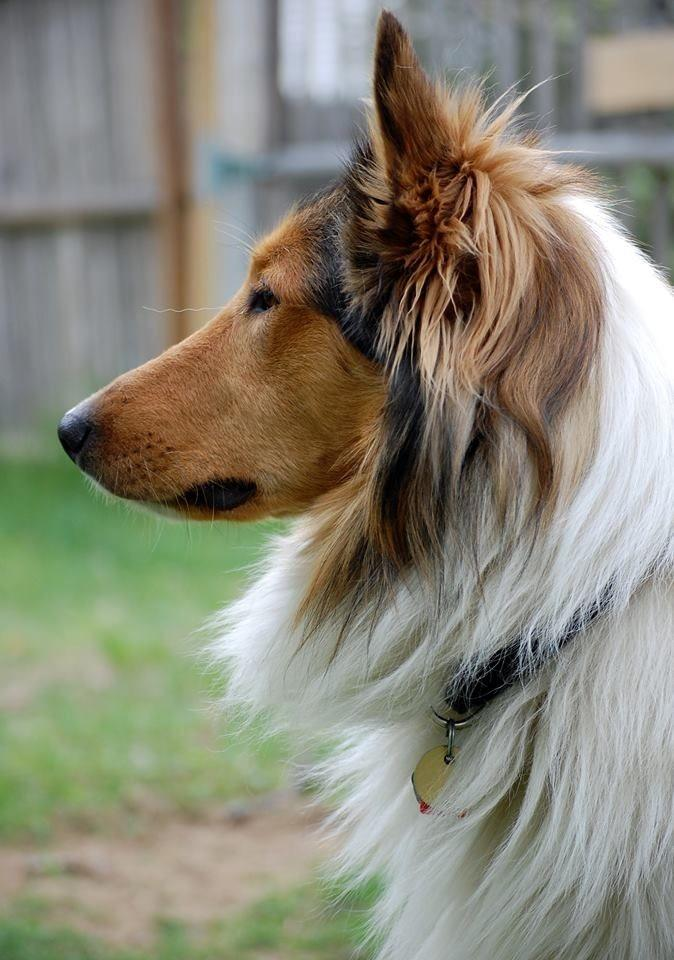adult_dog: (58, 10, 674, 960)
